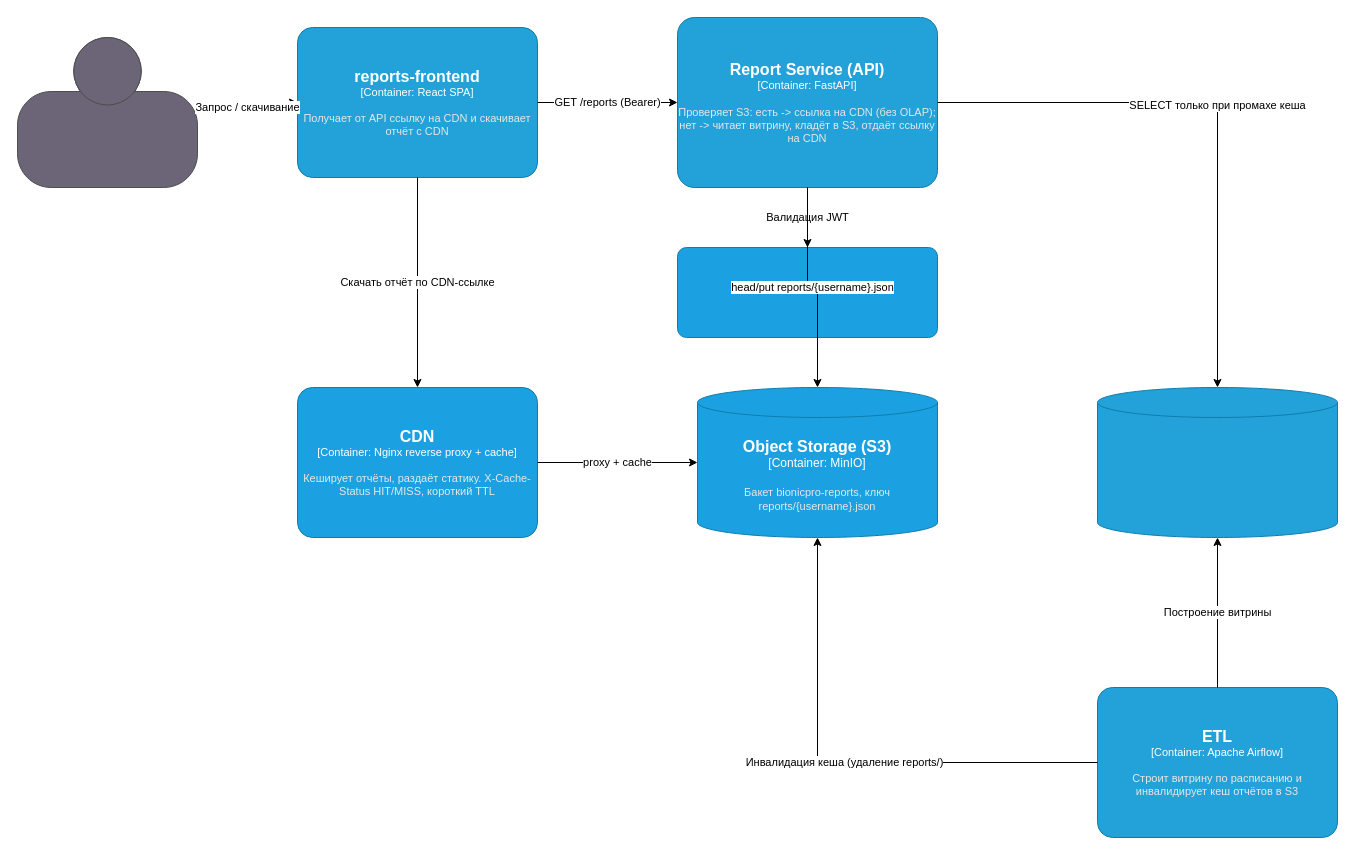
Some shapes in this 1355 by 855 pixel diagram are drawn without their labels. The centre of each missing label's shape, as x and y in pixels:
Keycloak [Container: OIDC]: (807,292)
OLAP (витрина) [Container: ClickHouse] report_user_telemetry: (1217,462)
Пилот протеза [Person]: (107,112)
